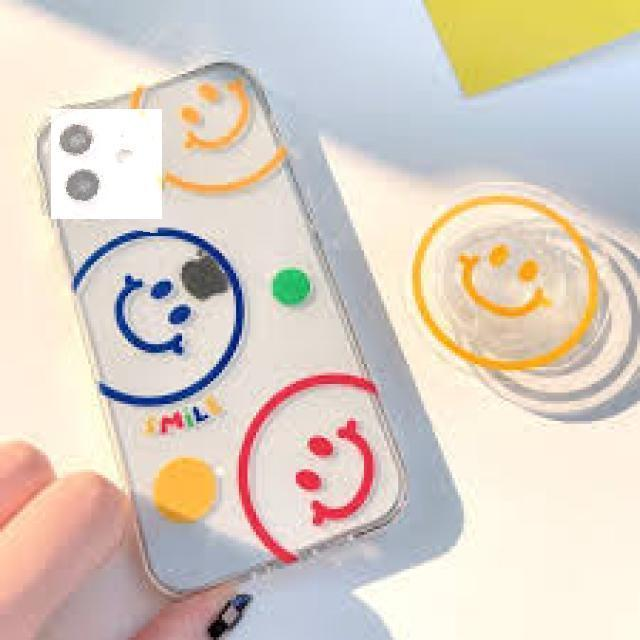Mobile: (32, 60, 416, 595)
